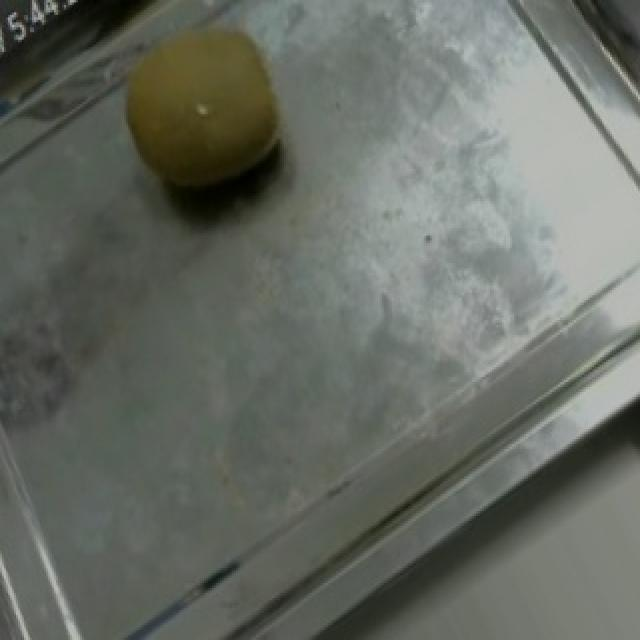Fruit: (88, 0, 320, 238)
